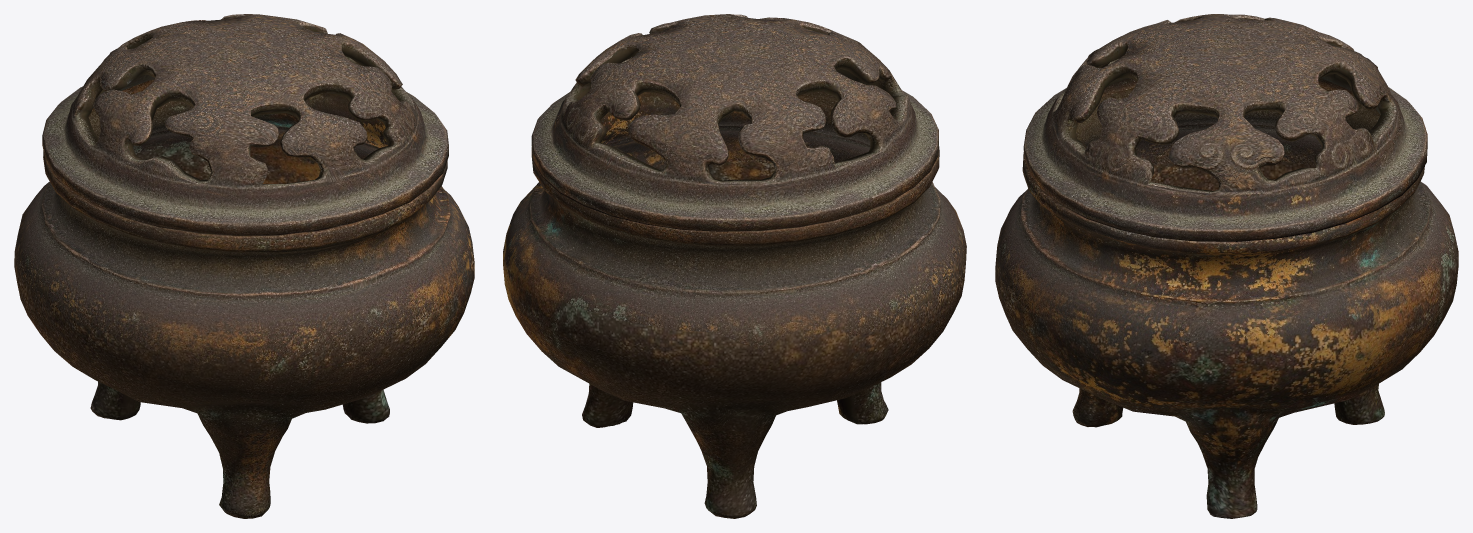
The model's file is tripo_convert_f95acfc1-a1d7-4ded-8aa1-e7f074841a4c.fbx.
The picture shows the model from 3 angles, left to right: view 1: azimuth 30°, elevation 25°; view 2: azimuth 150°, elevation 25°; view 3: azimuth 270°, elevation 25°; orthographic projection.
Visible parts, largest first — view 1: tripo_node_f95acfc1; view 2: tripo_node_f95acfc1; view 3: tripo_node_f95acfc1.
Part boxes in pixels (left/top/right/bottom): tripo_node_f95acfc1: left=14, top=14, right=474, bottom=518; tripo_node_f95acfc1: left=503, top=14, right=966, bottom=518; tripo_node_f95acfc1: left=995, top=14, right=1458, bottom=518.
Bounding box in the file's own units: 0.998 × 0.9551 × 0.998.
1 material, 1 textured.
